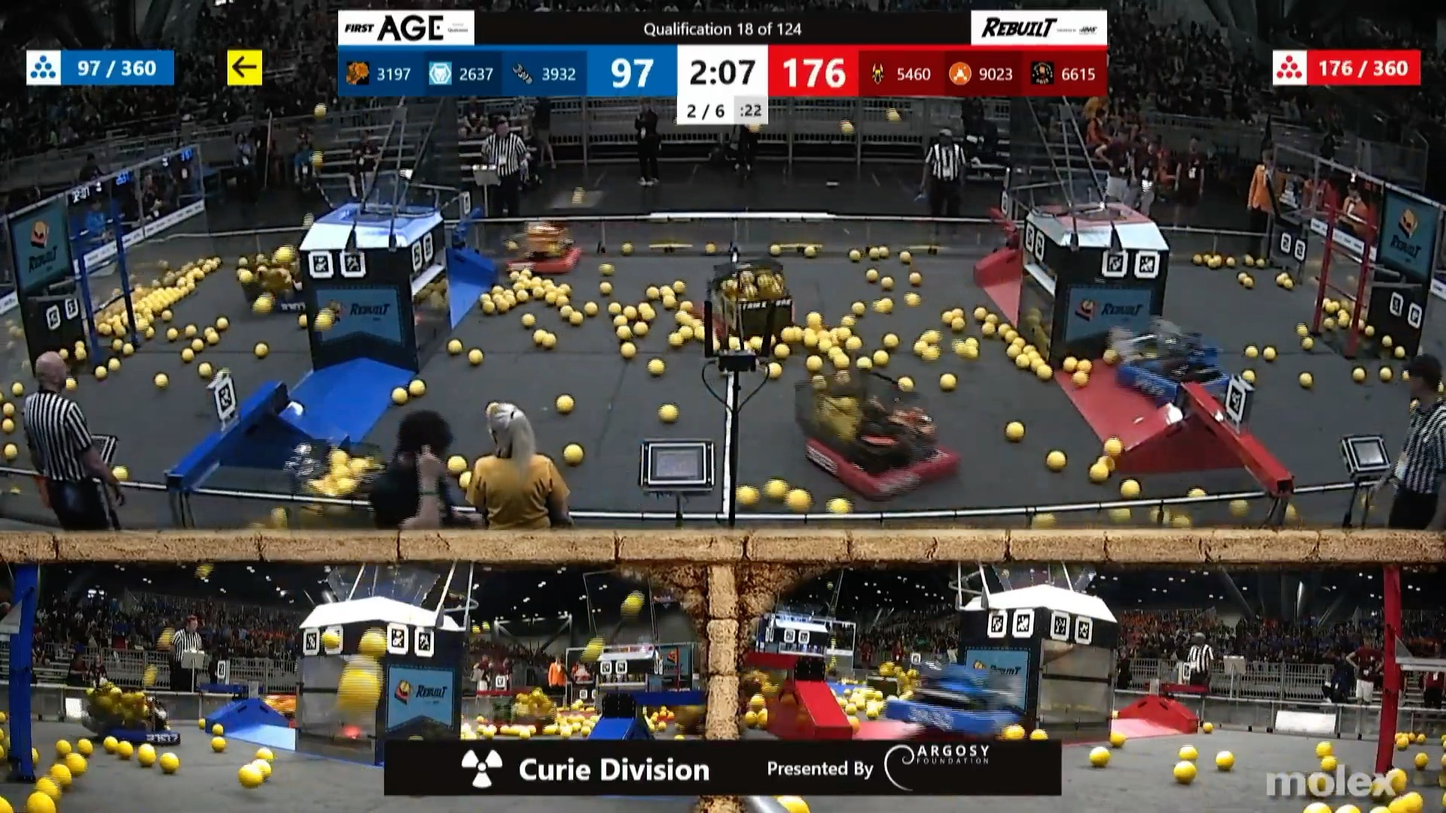bumpers: (806, 438, 961, 498), (1118, 348, 1240, 408), (887, 700, 1027, 742), (94, 714, 192, 764), (514, 245, 590, 273), (261, 287, 329, 315)
